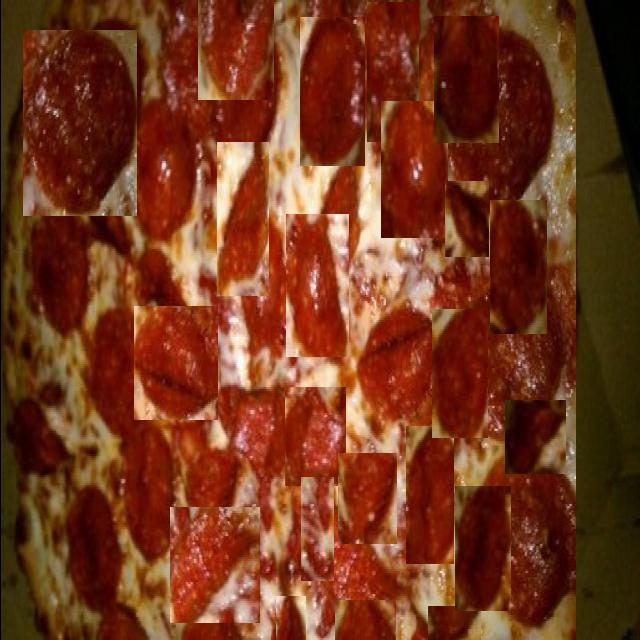pepperoni: (22, 30, 136, 216), (0, 450, 99, 628), (15, 280, 119, 442), (169, 507, 259, 623), (299, 17, 364, 166), (133, 306, 217, 421), (380, 102, 447, 240), (285, 214, 348, 357), (433, 16, 498, 143), (216, 142, 268, 296), (489, 200, 546, 334), (197, 0, 273, 100), (366, 2, 418, 142), (431, 309, 487, 438), (454, 486, 510, 611), (405, 426, 453, 564), (485, 86, 547, 190), (284, 387, 345, 486), (337, 453, 396, 544), (504, 400, 565, 474), (384, 249, 438, 331), (300, 477, 333, 581), (444, 181, 488, 257), (334, 600, 395, 640), (427, 606, 480, 640), (275, 596, 305, 640)
pizza: (0, 0, 575, 640)
